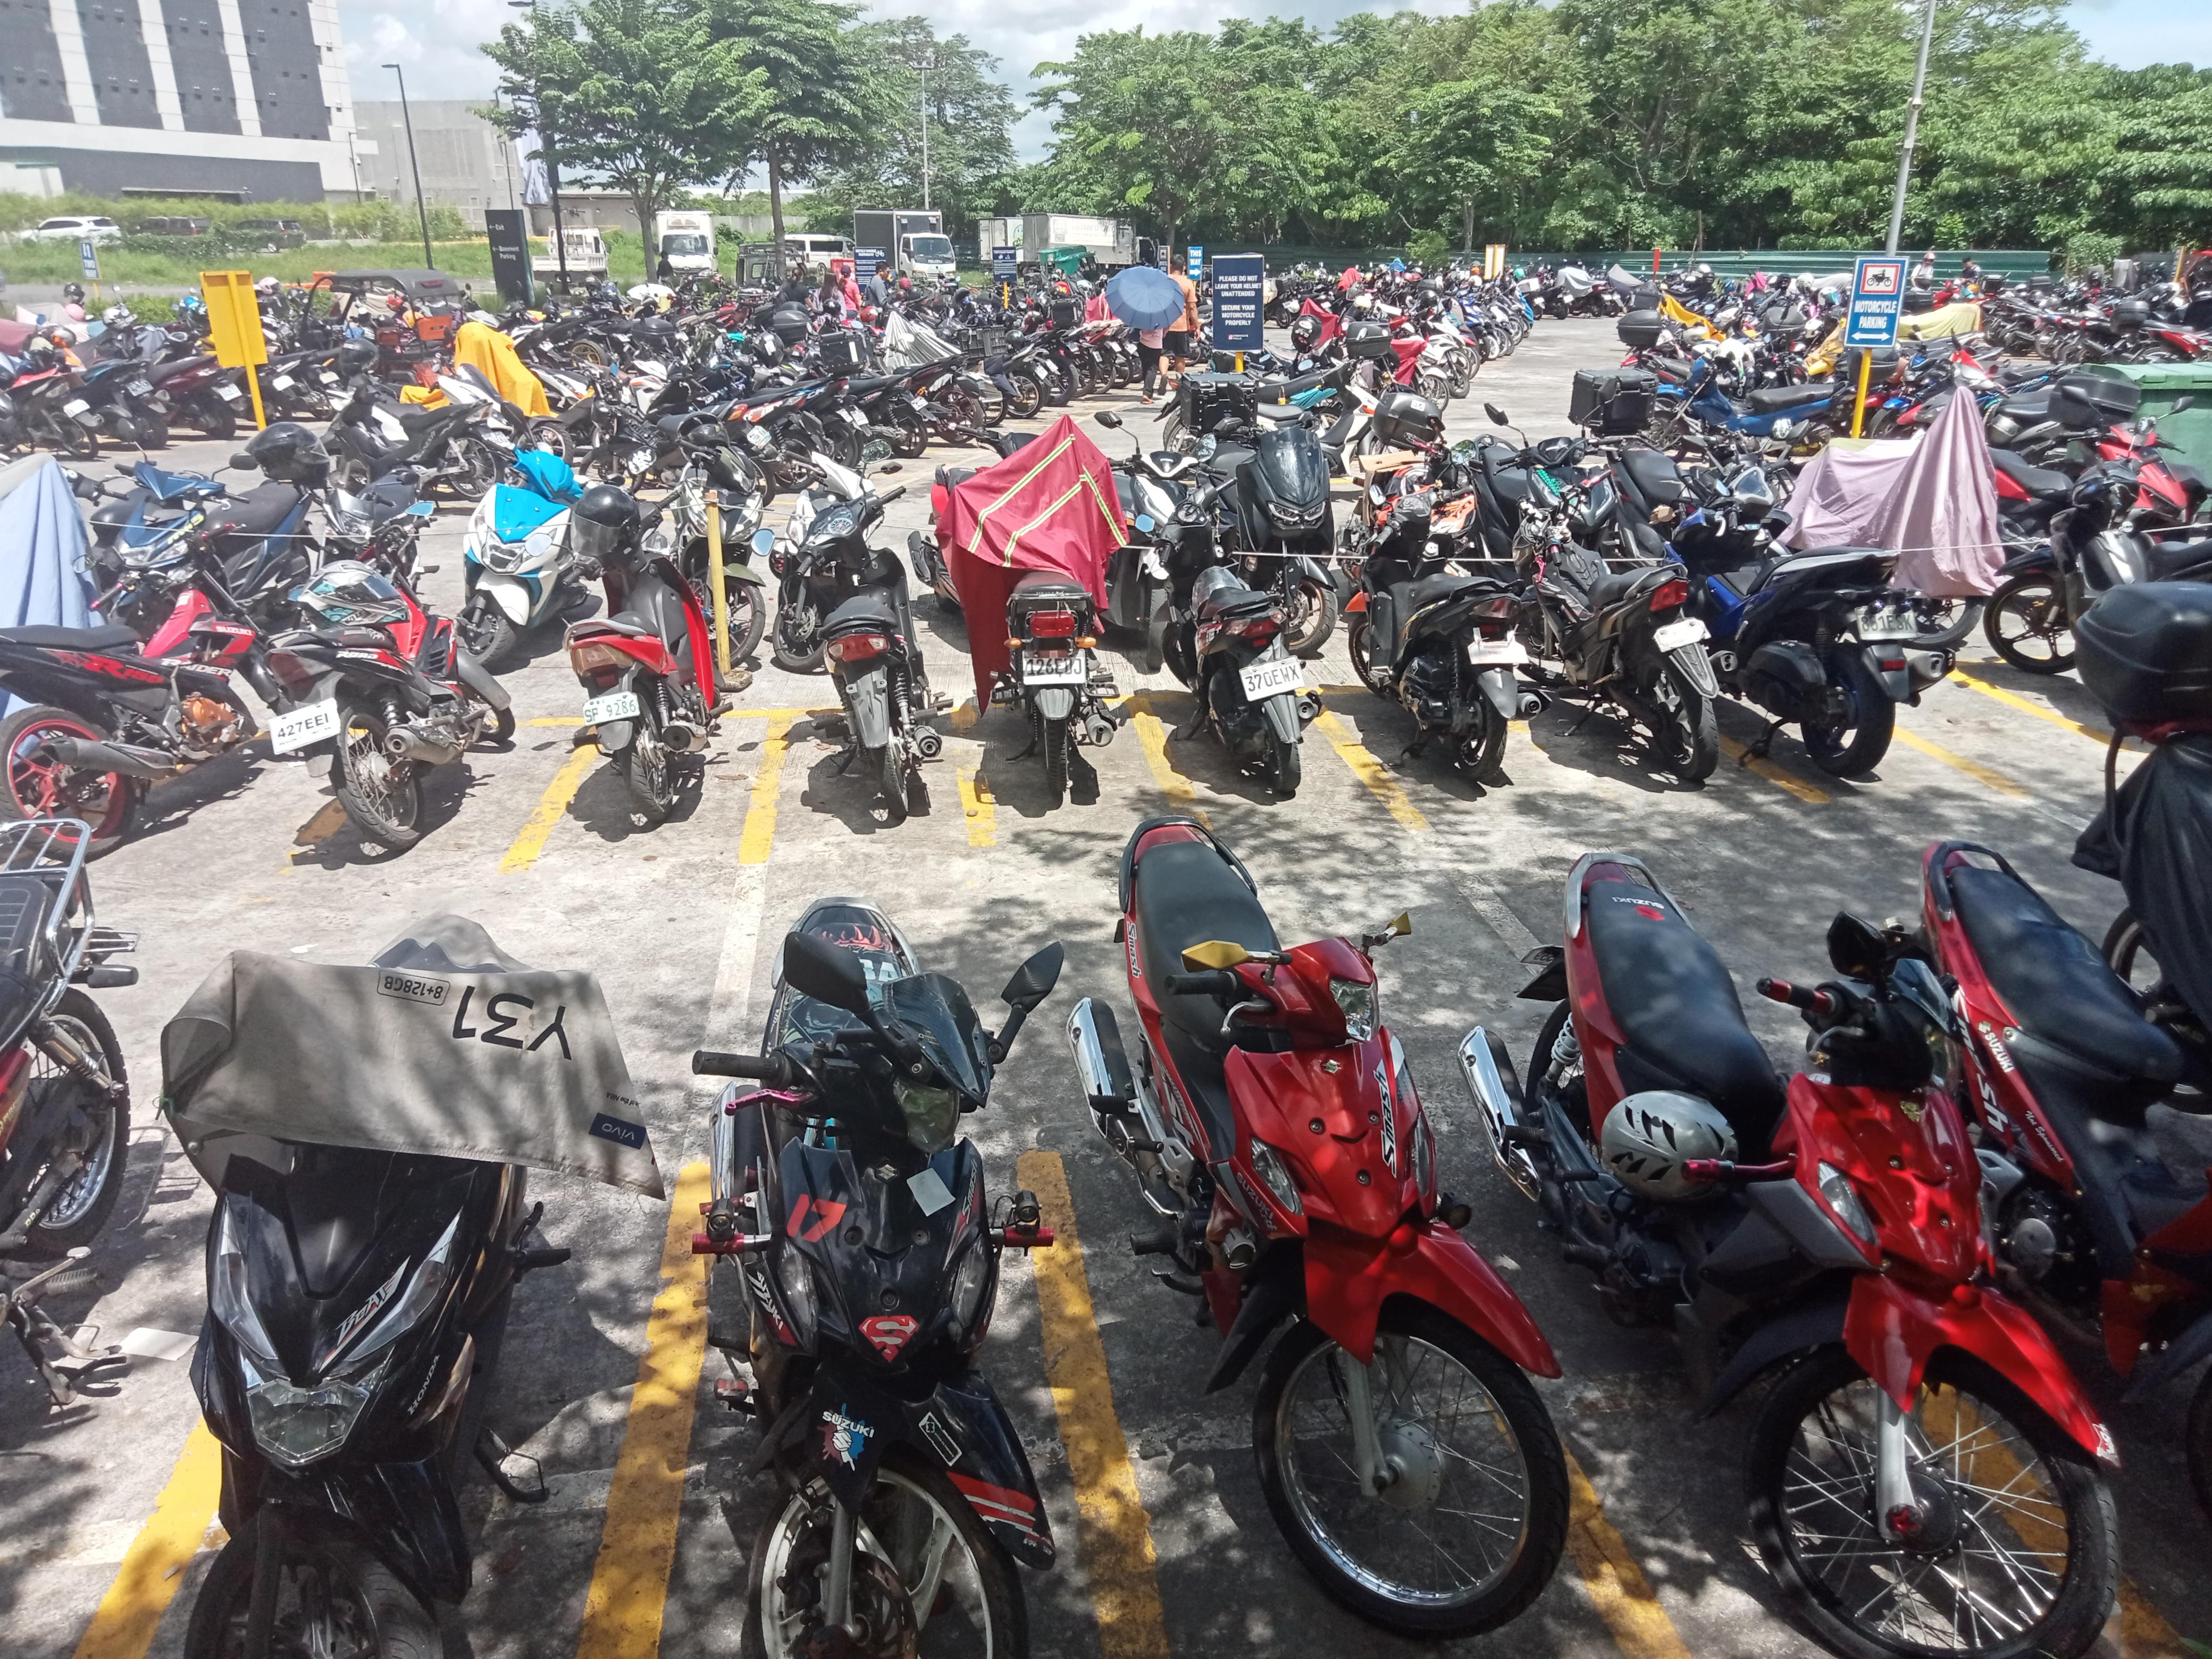occupied: (1014, 1138, 1691, 1657), (70, 1164, 730, 1656), (573, 1150, 1176, 1659), (233, 714, 624, 903), (1291, 676, 1637, 829), (493, 704, 796, 871), (1120, 688, 1433, 833), (738, 704, 998, 866), (946, 692, 1214, 847)
